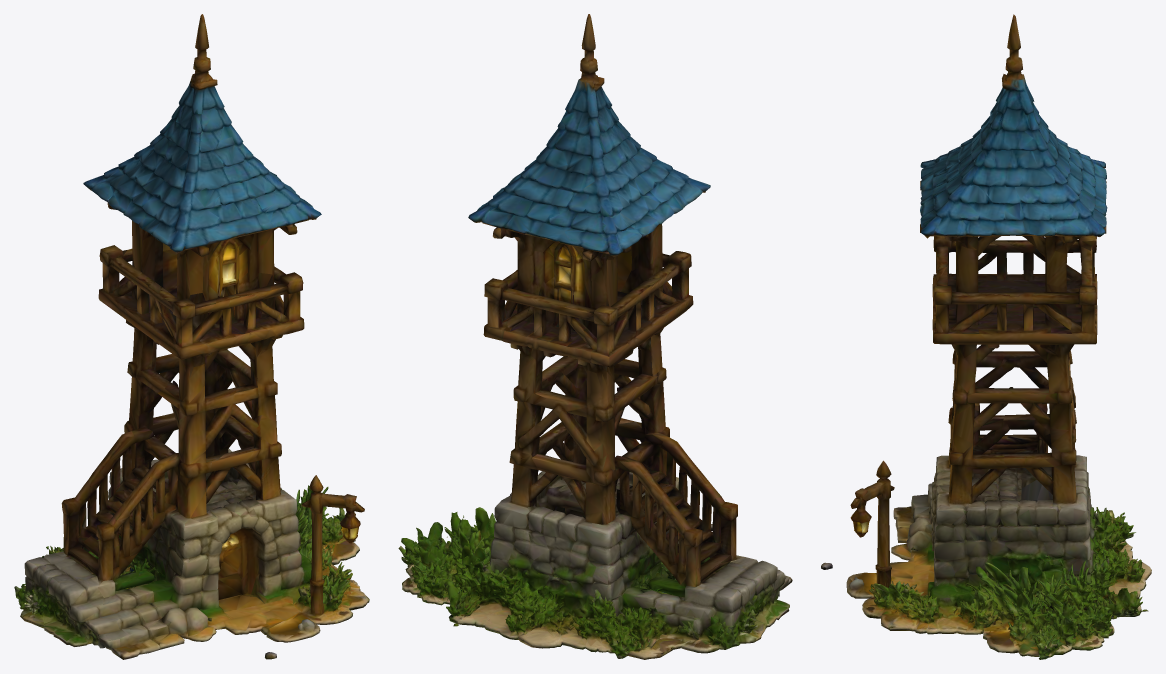
The model's file is Watchtower_T2.glb.
3 views of the same model, side by side, from view 1: azimuth 30°, elevation 25°; view 2: azimuth 150°, elevation 25°; view 3: azimuth 270°, elevation 25° (orthographic). The views are drawn at different scales.
Parts seen in each view (by area): view 1: Watchtower_T2; view 2: Watchtower_T2; view 3: Watchtower_T2.
Boxes of the visible parts, <box> form: Watchtower_T2: <box>14,14,369,659</box>; Watchtower_T2: <box>398,14,792,659</box>; Watchtower_T2: <box>821,14,1151,659</box>.
Size of the model in its own units: 1.2 by 1.9 by 1.01.
Materials: 1 (1 with a texture image).
